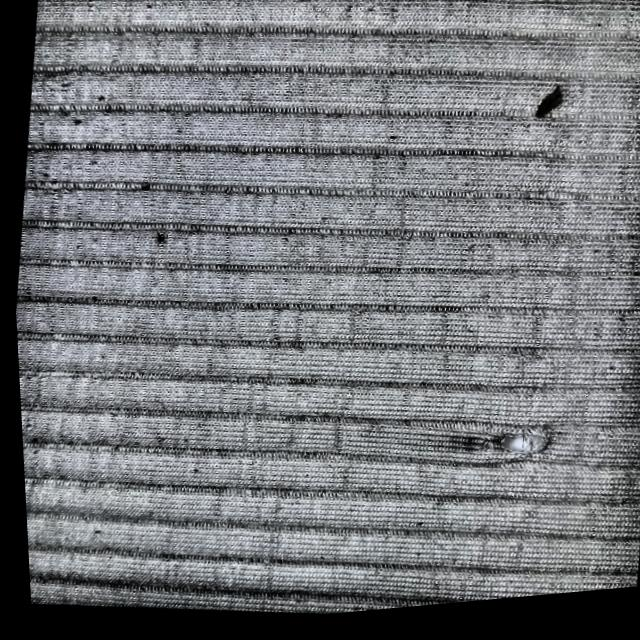Hole: (456, 417, 558, 493)
